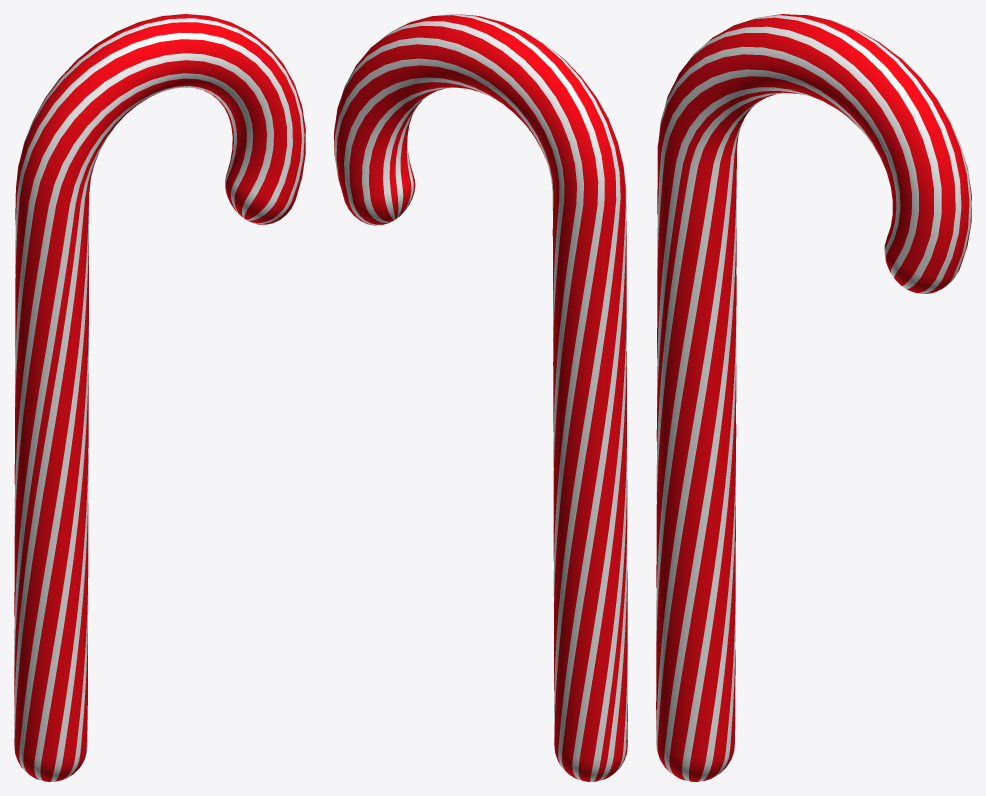
Rendered from candy.glb.
3 renders of one model, left to right at view 1: azimuth 30°, elevation 25°; view 2: azimuth 150°, elevation 25°; view 3: azimuth 330°, elevation 25°, orthographic. The views are drawn at different scales.
Parts seen in each view (by area): view 1: Sphere; view 2: Sphere; view 3: Sphere.
Part boxes in pixels (box(x1,y1,x2,y2)): Sphere: box(14, 14, 305, 781); Sphere: box(334, 14, 627, 781); Sphere: box(656, 14, 971, 781).
Size of the model in its own units: 0.4828 by 1.19 by 0.1118.
